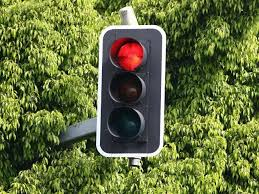red: (94, 24, 166, 160), (105, 31, 155, 150), (109, 36, 147, 145)
